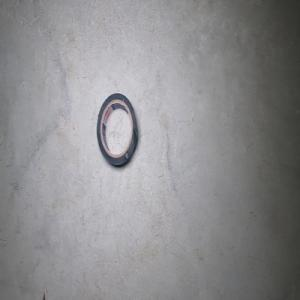Tape: (96, 93, 137, 166)
